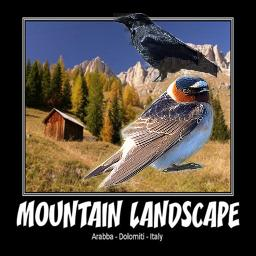Crow: (113, 13, 217, 82)
Swallow: (81, 74, 215, 193)
